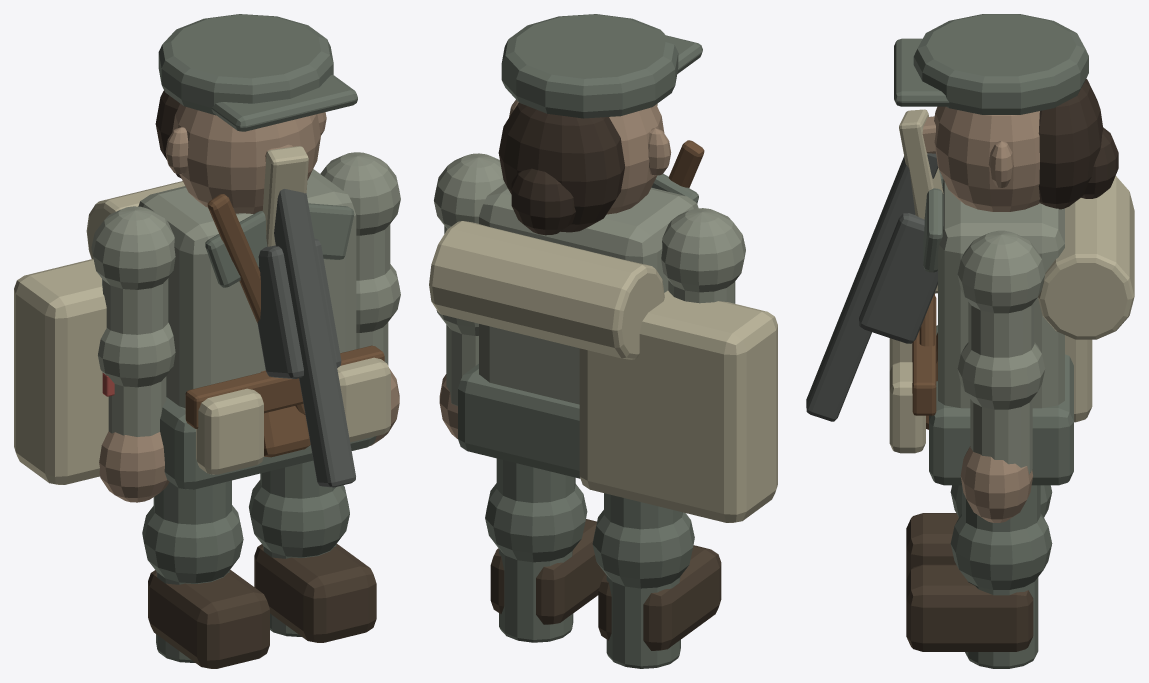
The model's file is Model_OperativeMedic.glb.
3 renders of one model, left to right at view 1: azimuth 30°, elevation 25°; view 2: azimuth 150°, elevation 25°; view 3: azimuth 270°, elevation 25°, orthographic.
Visible parts, largest first — view 1: Asset_OperativeMedic_BodyMesh, Arm_L_Mesh.002, Leg_L_Mesh.002, Leg_R_Mesh.002, Arm_R_Mesh.002; view 2: Asset_OperativeMedic_BodyMesh, Leg_L_Mesh.002, Leg_R_Mesh.002, Arm_L_Mesh.002, Arm_R_Mesh.002; view 3: Asset_OperativeMedic_BodyMesh, Arm_R_Mesh.002, Leg_R_Mesh.002, Leg_L_Mesh.002.
Boxes of the visible parts, x1,y1,x2,y2 form: Asset_OperativeMedic_BodyMesh: (14,14,390,489); Arm_L_Mesh.002: (91,206,175,502); Leg_L_Mesh.002: (142,480,269,668); Leg_R_Mesh.002: (249,460,376,642); Arm_R_Mesh.002: (320,152,400,445); Asset_OperativeMedic_BodyMesh: (429,14,777,522); Leg_L_Mesh.002: (592,493,721,668); Leg_R_Mesh.002: (485,458,605,642); Arm_L_Mesh.002: (661,208,745,303); Arm_R_Mesh.002: (434,153,504,438); Asset_OperativeMedic_BodyMesh: (806,14,1134,485); Arm_R_Mesh.002: (957,230,1045,522); Leg_R_Mesh.002: (906,485,1052,668); Leg_L_Mesh.002: (906,485,1052,579).
Size of the model in its own units: 1.29 by 2.13 by 1.08.
